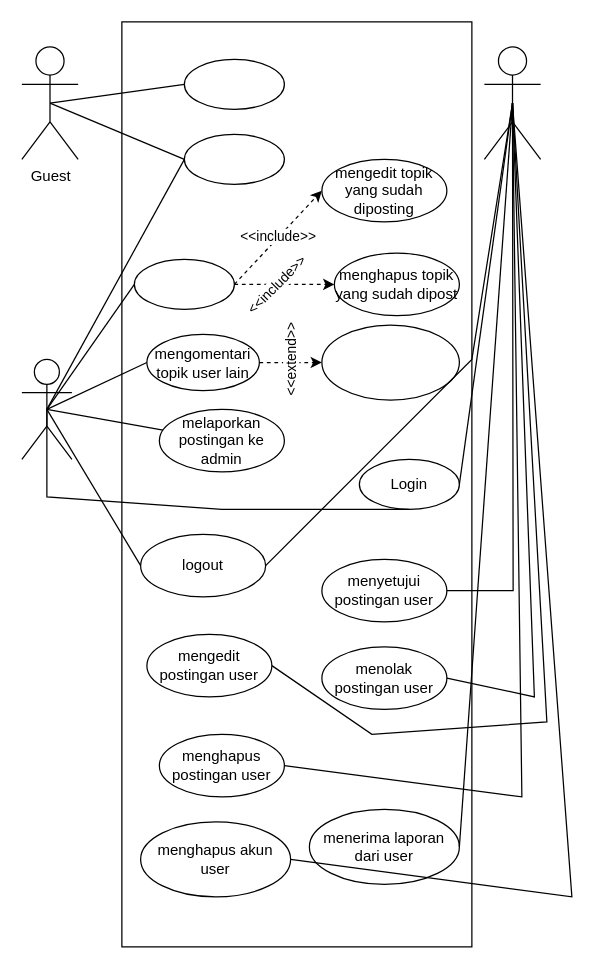
The diagram is 595 pixels wide and 969 high, and some of its shapes have lost their labels. Here are the shapes that lost their labels. From the top down, the centre of each, then its label:
point (233, 83): register
point (512, 102): Admin
point (233, 158): melihat postingan
point (183, 283): memposting topik
point (390, 362): user lain bisa membalas komen
point (46, 408): User
